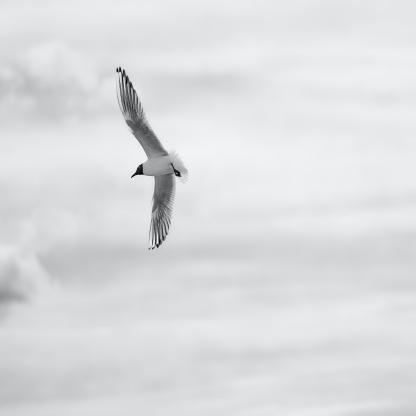bird: (116, 67, 190, 250)
